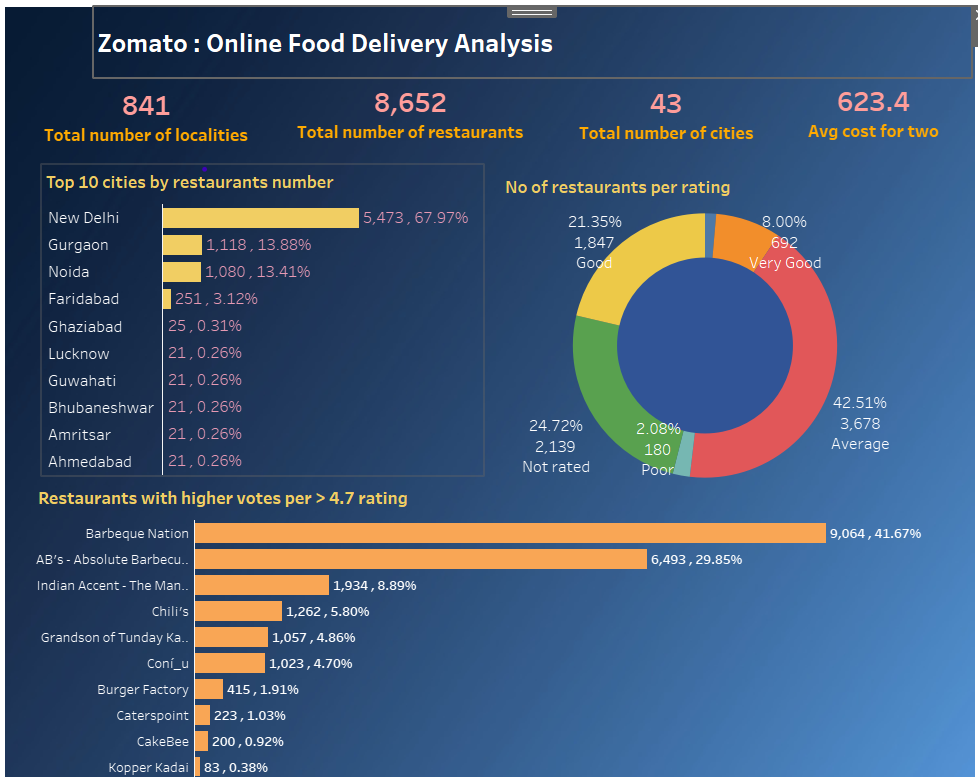

The page's visual inventory and layout, read from the dashboard file:
{"tool":"tableau","page":{"name":"Dashboard 1","canvas":[1000,800],"ordinal":0},"visuals":[{"type":"image","param":"C:/Users/rajat/Downloads/g.jpg","box":[8,8,984,784]},{"type":"text","box":[104,12,877,70]},{"type":"worksheet","title":"Avg cost for two","mark":"Automatic","box":[814,87,146,62]},{"type":"worksheet","title":"Total number of restaurants","mark":"Automatic","box":[301,88,252,69]},{"type":"worksheet","title":"Total number of cities","mark":"Automatic","box":[577,89,205,63]},{"type":"worksheet","title":"Total number of localities","mark":"Automatic","box":[47,91,228,65]},{"type":"worksheet","title":"Top 10 cities by restaurants number ","mark":"Automatic","rows":["City"],"cols":["Calculation_1277896443840782341"],"box":[52,170,441,310]},{"type":"worksheet","title":"No of restaurants per rating","mark":"Pie","rows":["Calculation_1277896443885322247","Calculation_1277896443885322247"],"box":[511,175,408,312]},{"type":"worksheet","title":"Restaurants with higher votes per > 4.7 rating","mark":"Automatic","rows":["Calculation_1277896443887656968"],"cols":["Votes"],"box":[44,487,924,298]}]}

Visuals, with their boxes in screenshot pixels (x1, y1, x2, y2), scaled from the page's 1000x800 canvas onto the 978x777 screenshot:
image: box(8, 8, 970, 769)
text: box(102, 12, 959, 80)
"Avg cost for two" worksheet: box(796, 84, 939, 145)
"Total number of restaurants" worksheet: box(294, 85, 541, 152)
"Total number of cities" worksheet: box(564, 86, 765, 148)
"Total number of localities" worksheet: box(46, 88, 269, 152)
"Top 10 cities by restaurants number " worksheet: box(51, 165, 482, 466)
"No of restaurants per rating" worksheet (Pie marks): box(500, 170, 899, 473)
"Restaurants with higher votes per > 4.7 rating" worksheet: box(43, 473, 947, 762)
